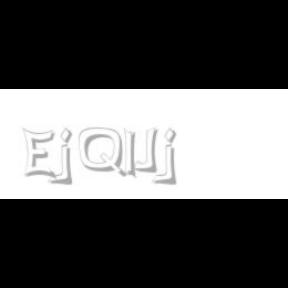E: (22, 128, 55, 180)
J: (132, 128, 158, 172)
Q: (79, 128, 125, 178)
j: (58, 128, 86, 186), (162, 128, 190, 186)
l: (124, 128, 140, 180)
